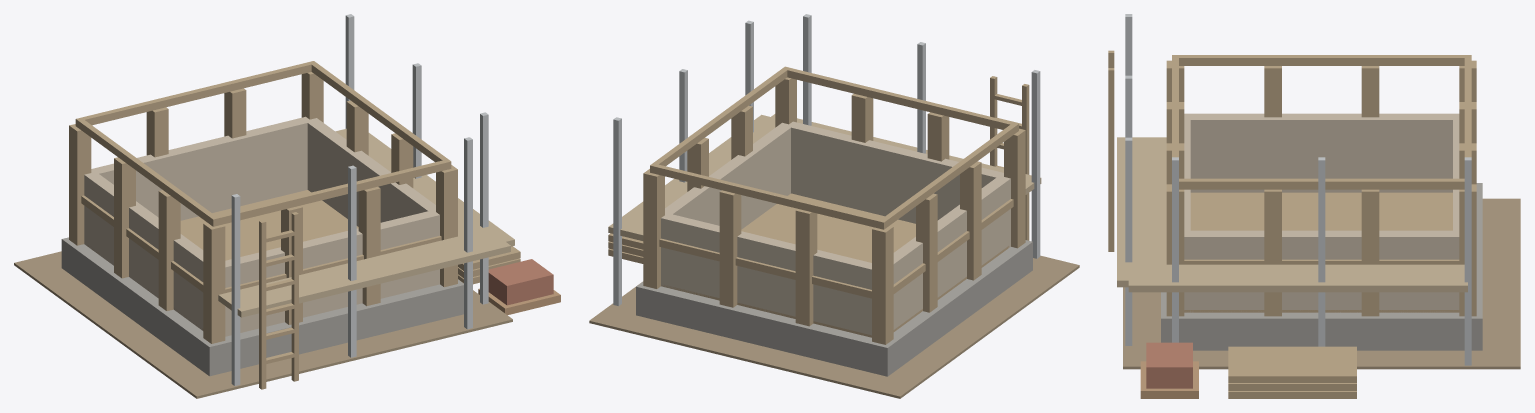
File: rabbit_hutch_site_6.glb
3 renders of one model, left to right at view 1: azimuth 30°, elevation 25°; view 2: azimuth 150°, elevation 25°; view 3: azimuth 270°, elevation 25°, orthographic. The views are drawn at different scales.
Visible parts, largest first — view 1: body; view 2: body; view 3: body.
Part boxes in pixels (x1,y1,x2,y2): body: (14, 14, 560, 398); body: (589, 14, 1079, 398); body: (1108, 14, 1520, 398).
Size of the model in its own units: 1.6 by 0.785 by 1.41.
